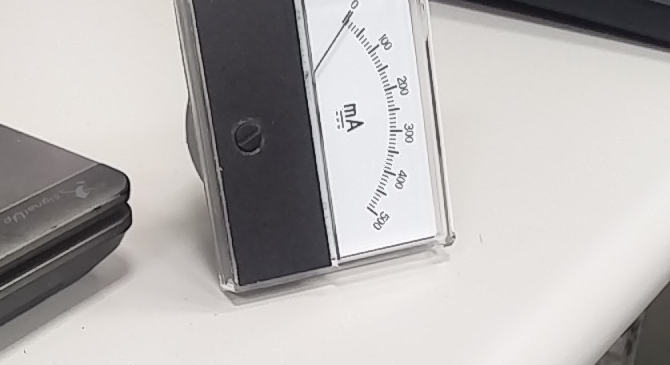MilliAmp_Meter: (288, 1, 447, 268)
